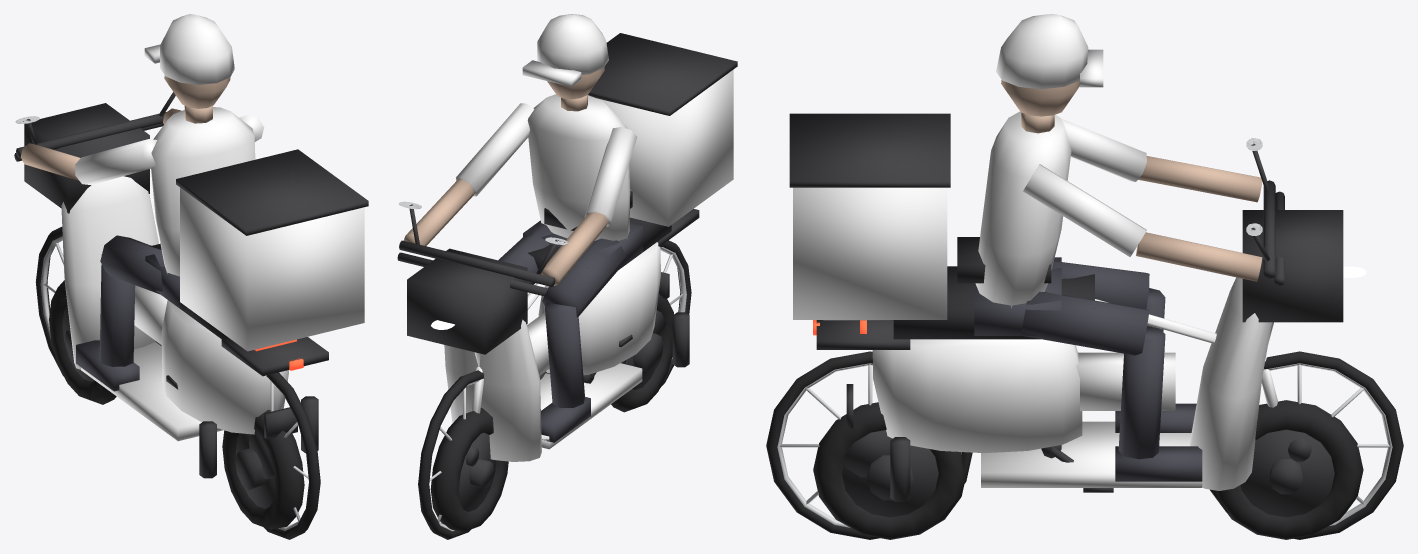
File: ebikes.glb
The picture shows the model from 3 angles, left to right: view 1: azimuth 30°, elevation 25°; view 2: azimuth 150°, elevation 25°; view 3: azimuth 270°, elevation 25°; orthographic projection. The views are drawn at different scales.
Visible parts, largest first — view 1: ebike-delivery_ebike_paint, ebike-delivery_ebike_dark, ebike-rider_rider_cloth, ebike-bicycle_ebike_dark, ebike-rider_rider_dark, ebike-delivery_ebike_rubber, ebike-rider_rider_helmet, ebike-bicycle_ebike_rubber, ebike-rider_rider_skin, ebike-bicycle_ebike_paint, ebike-bicycle_ebike_silver; view 2: ebike-delivery_ebike_paint, ebike-rider_rider_cloth, ebike-delivery_ebike_dark, ebike-bicycle_ebike_dark, ebike-rider_rider_dark, ebike-delivery_ebike_rubber, ebike-rider_rider_skin, ebike-rider_rider_helmet, ebike-bicycle_ebike_rubber, ebike-bicycle_ebike_paint, ebike-delivery_ebike_seat, ebike-bicycle_ebike_silver; view 3: ebike-delivery_ebike_paint, ebike-delivery_ebike_dark, ebike-rider_rider_dark, ebike-rider_rider_cloth, ebike-delivery_ebike_rubber, ebike-bicycle_ebike_dark, ebike-rider_rider_skin, ebike-bicycle_ebike_rubber, ebike-rider_rider_helmet, ebike-bicycle_ebike_paint, ebike-delivery_ebike_seat, ebike-bicycle_ebike_silver (+1 smaller).
Part boxes in pixels (x1,y1,x2,y2): ebike-delivery_ebike_paint: (61, 176, 364, 441); ebike-delivery_ebike_dark: (16, 92, 368, 508); ebike-rider_rider_cloth: (75, 107, 264, 276); ebike-bicycle_ebike_dark: (14, 103, 328, 479); ebike-rider_rider_dark: (76, 235, 188, 391); ebike-delivery_ebike_rubber: (49, 280, 304, 529); ebike-rider_rider_helmet: (144, 14, 234, 84); ebike-bicycle_ebike_rubber: (35, 227, 320, 539); ebike-rider_rider_skin: (20, 75, 230, 180); ebike-bicycle_ebike_paint: (134, 285, 167, 344); ebike-bicycle_ebike_silver: (40, 236, 308, 530); ebike-delivery_ebike_paint: (444, 69, 733, 461); ebike-rider_rider_cloth: (456, 94, 637, 240); ebike-delivery_ebike_dark: (399, 33, 737, 511); ebike-bicycle_ebike_dark: (397, 209, 699, 466); ebike-rider_rider_dark: (498, 220, 642, 442); ebike-delivery_ebike_rubber: (430, 294, 673, 532); ebike-rider_rider_skin: (403, 67, 607, 285); ebike-rider_rider_helmet: (522, 14, 608, 86); ebike-bicycle_ebike_rubber: (418, 240, 691, 539); ebike-bicycle_ebike_paint: (471, 283, 549, 413); ebike-delivery_ebike_seat: (514, 217, 671, 270); ebike-bicycle_ebike_silver: (429, 247, 686, 531); ebike-delivery_ebike_paint: (793, 187, 1271, 490); ebike-delivery_ebike_dark: (789, 113, 1334, 517); ebike-rider_rider_dark: (974, 257, 1202, 481); ebike-rider_rider_cloth: (975, 111, 1146, 308); ebike-delivery_ebike_rubber: (813, 400, 1363, 539); ebike-bicycle_ebike_dark: (816, 191, 1343, 492); ebike-rider_rider_skin: (1001, 80, 1262, 281); ebike-bicycle_ebike_rubber: (766, 351, 1403, 539); ebike-rider_rider_helmet: (996, 14, 1103, 89); ebike-bicycle_ebike_paint: (1076, 299, 1277, 410); ebike-delivery_ebike_seat: (893, 266, 1094, 339); ebike-bicycle_ebike_silver: (777, 363, 1392, 527).
Bounding box in the file's own units: 0.69 × 1.72 × 1.9.
